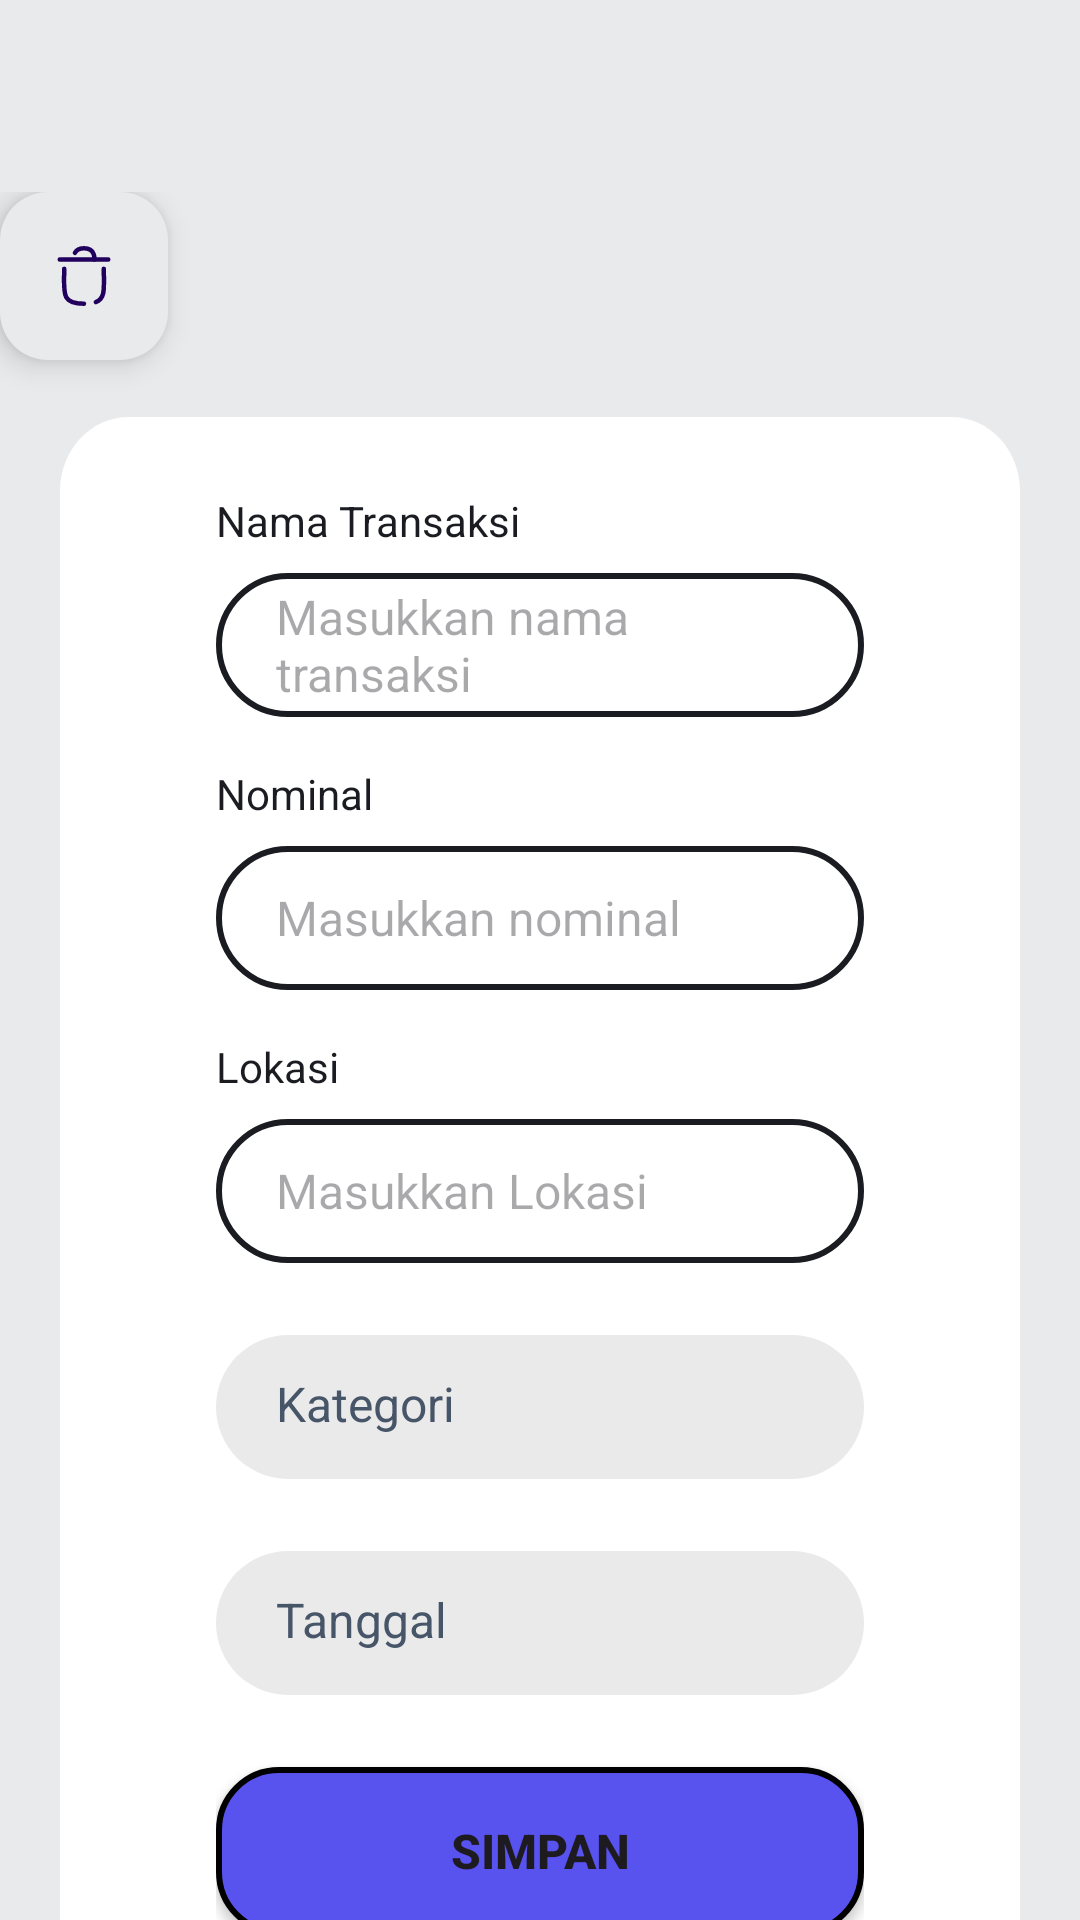

Screen size 1080 x 1920. Icon name, then its center in pixels as point (x, y):
delete: point (67, 285)
